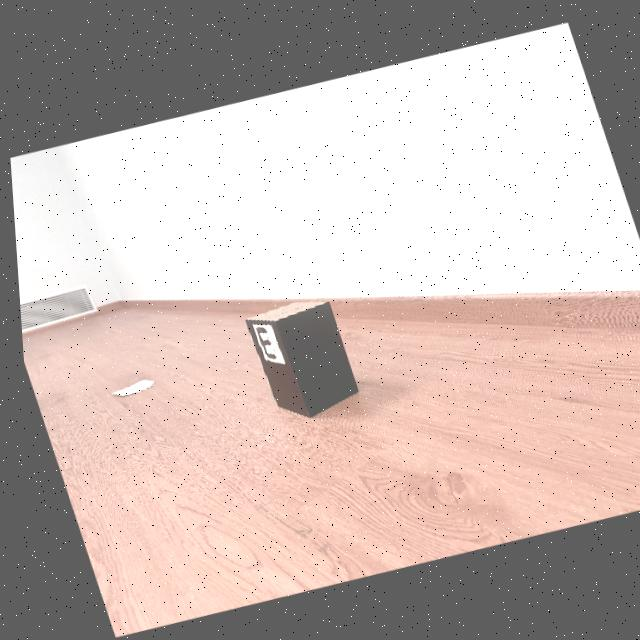E: (251, 325, 272, 358)
